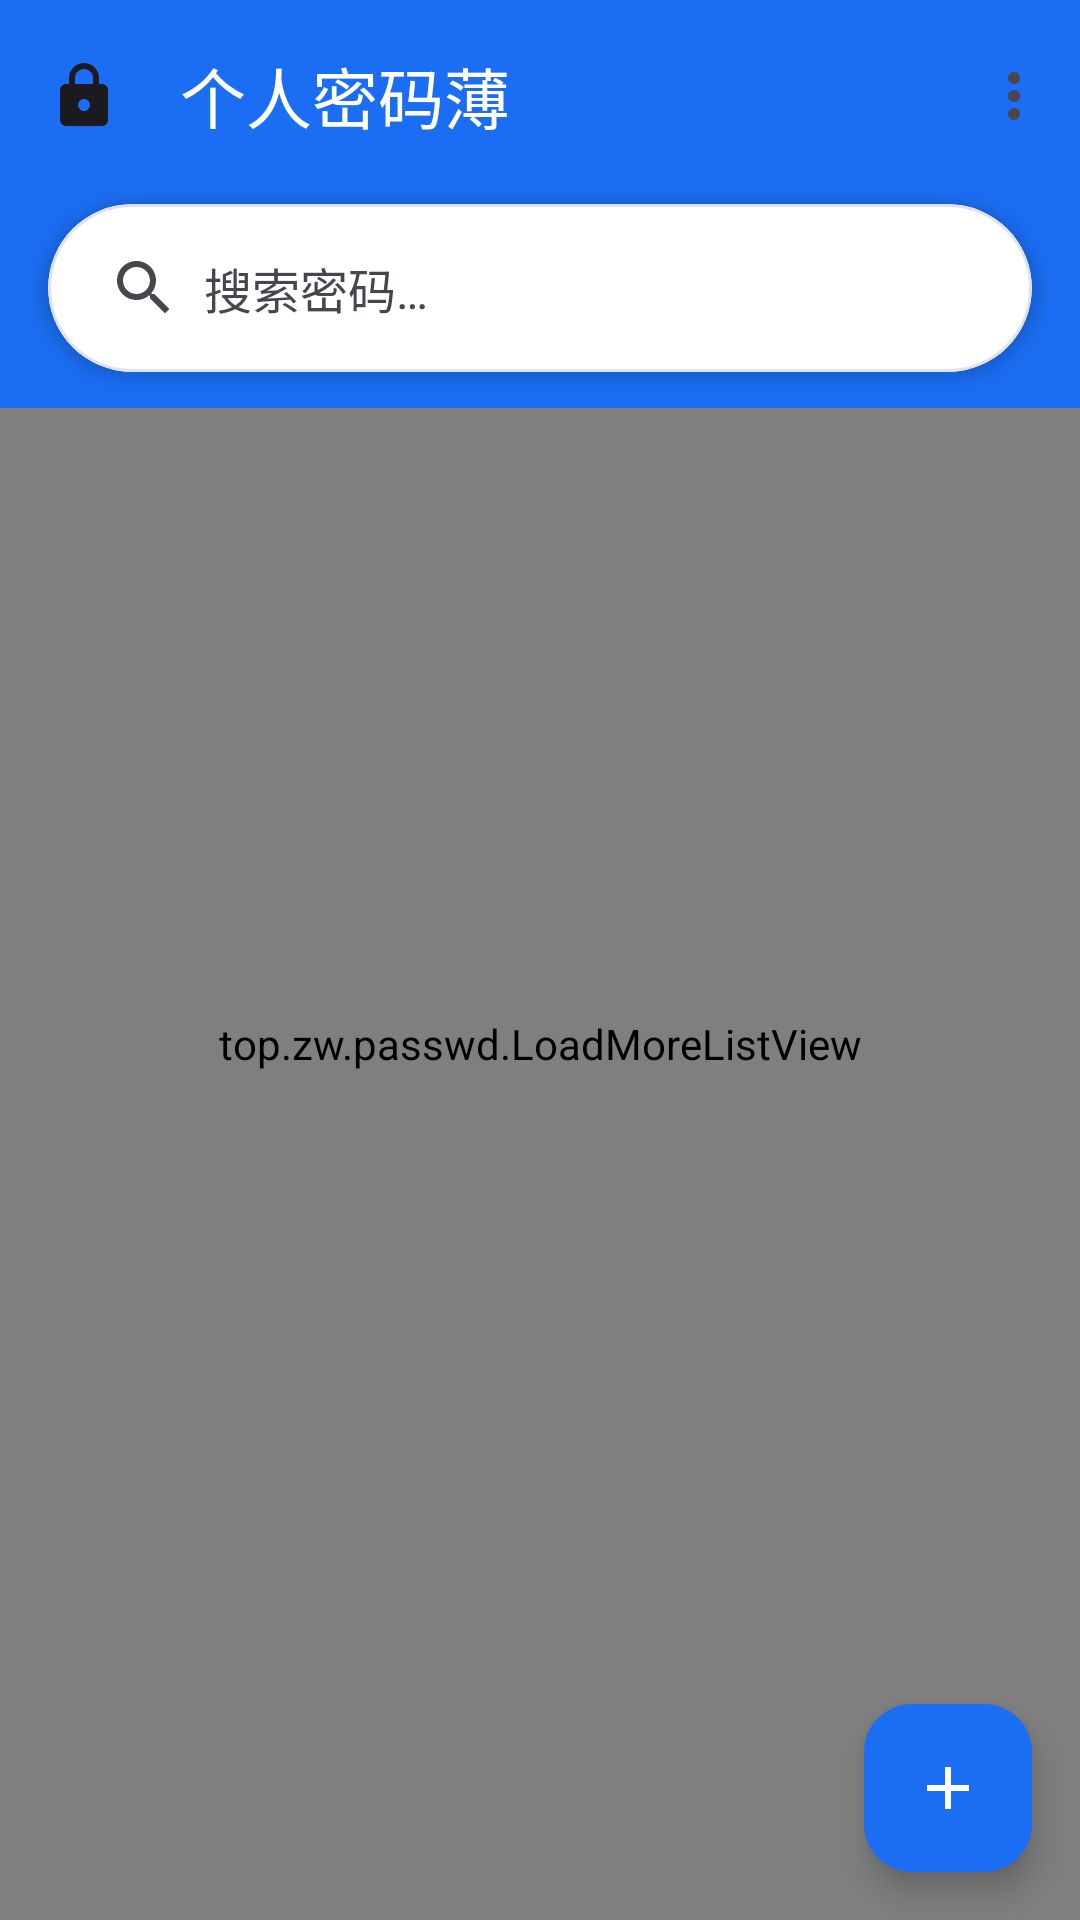

Named icons in this screenshot (1080x1920) and their centers, (x=x, y=y):
添加密码: (x=948, y=1788)
